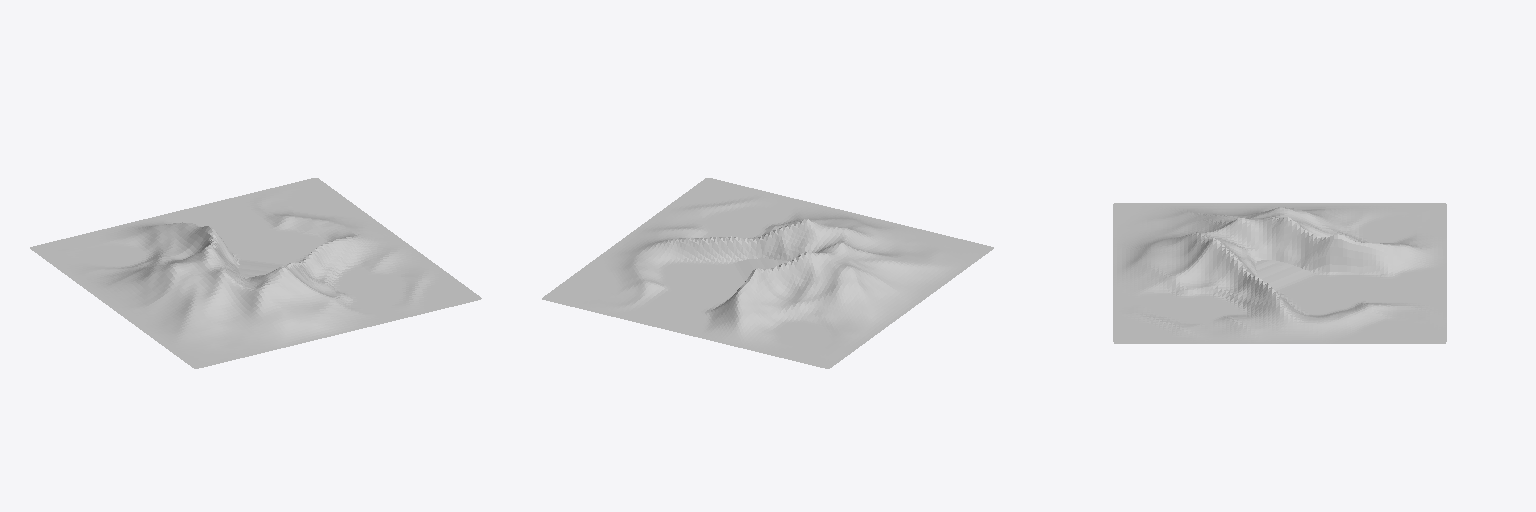
The model's file is PM3D_IslandFromCinemaNoTexture.OBJ.
3 renders of one model, left to right at view 1: azimuth 30°, elevation 25°; view 2: azimuth 150°, elevation 25°; view 3: azimuth 270°, elevation 25°, orthographic.
Parts seen in each view (by area): view 1: Group10197; view 2: Group10197; view 3: Group10197.
Part boxes in pixels (left/top/right/bottom): Group10197: left=30, top=178, right=481, bottom=368; Group10197: left=542, top=178, right=993, bottom=368; Group10197: left=1113, top=203, right=1446, bottom=343.
Bounding box in the file's own units: 0.9994 × 0.1166 × 1.